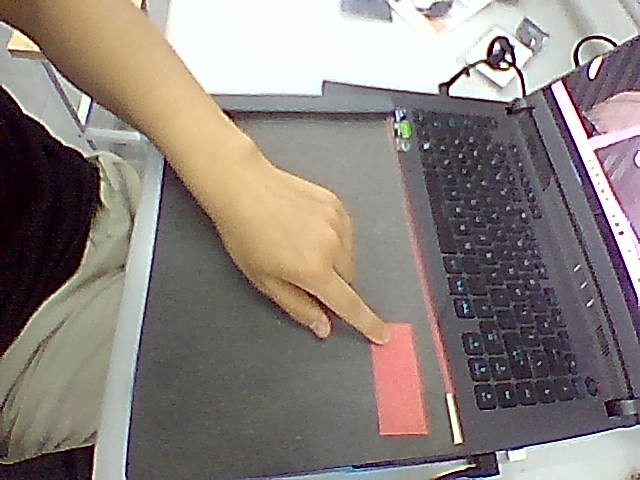card: (372, 323, 428, 435)
